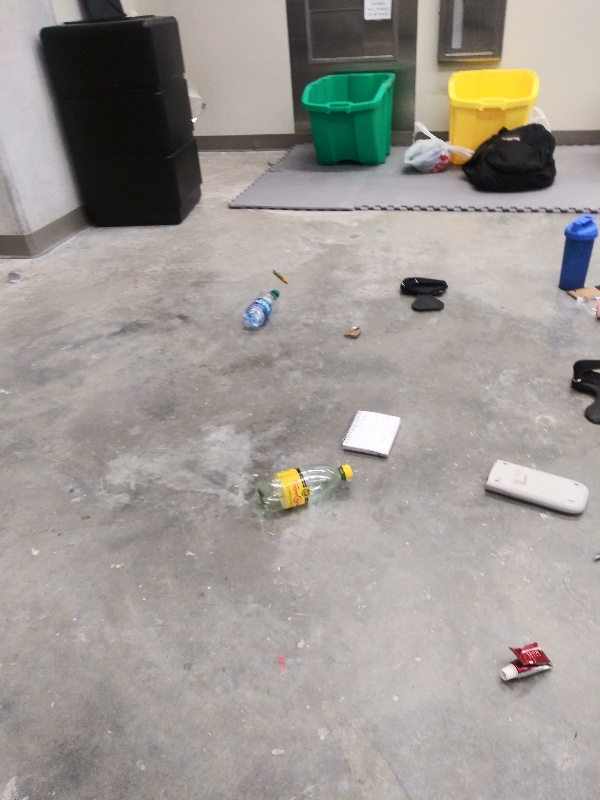bottle: (249, 460, 358, 520), (238, 285, 280, 333)
